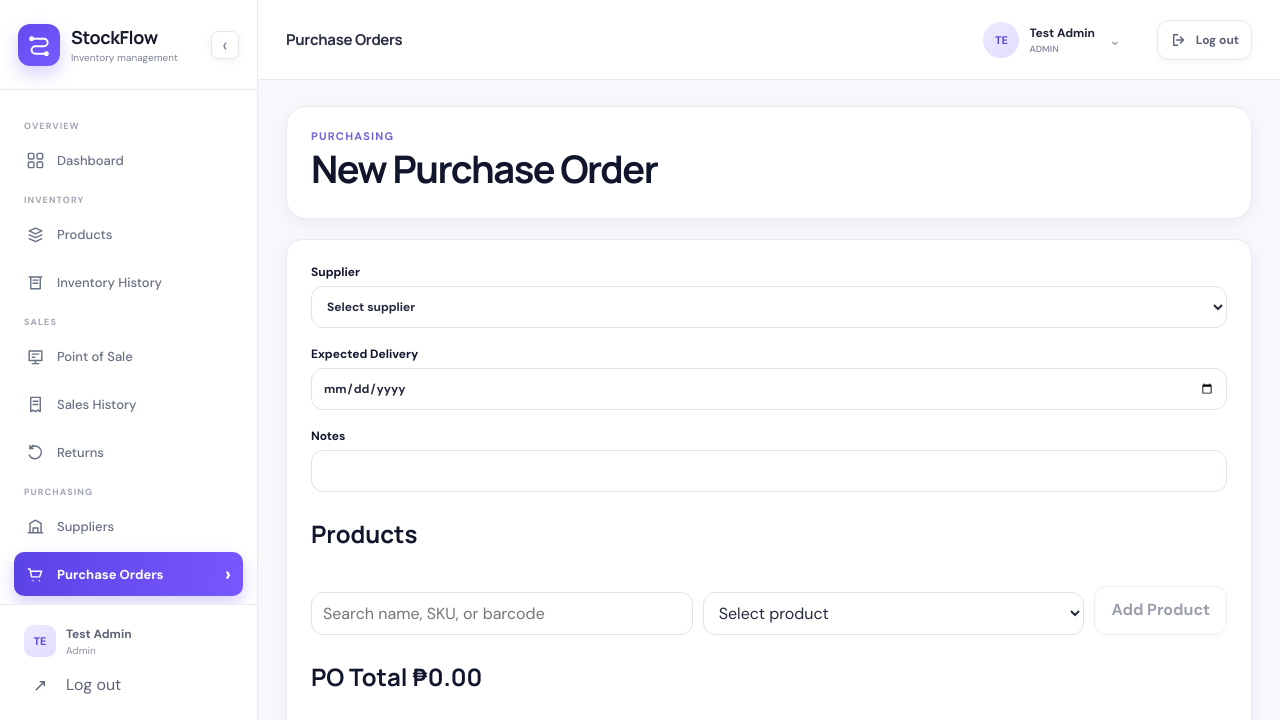
Phase 8 purchasing UI › searches products and creates a draft with preview total
The image size is (1280, 720).
Check: the heading "New Purchase Order" is shown, box left=311, top=149, right=657, bottom=189
Type "4801" into the field named "Search products" at (502, 613), box left=311, top=592, right=693, bottom=635
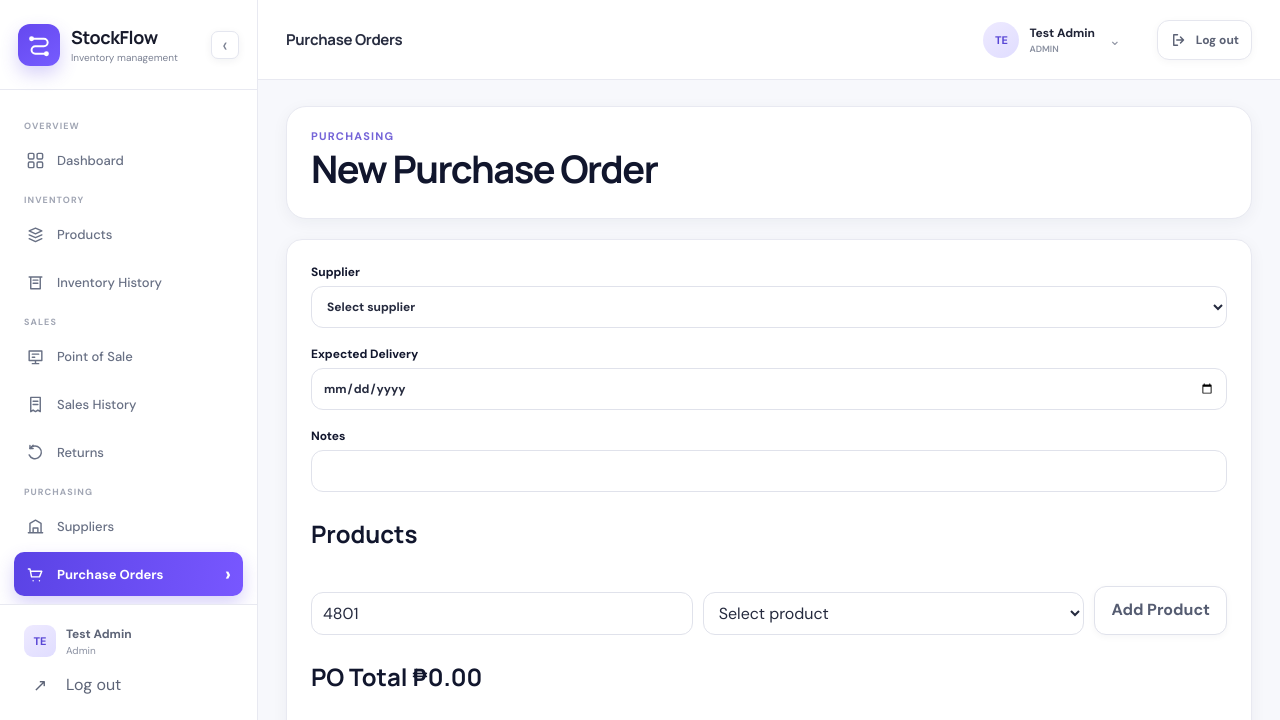
Select "Mineral Water · WATER · 4801" in the dropdown named "Product result" at (894, 613), box left=703, top=592, right=1084, bottom=635
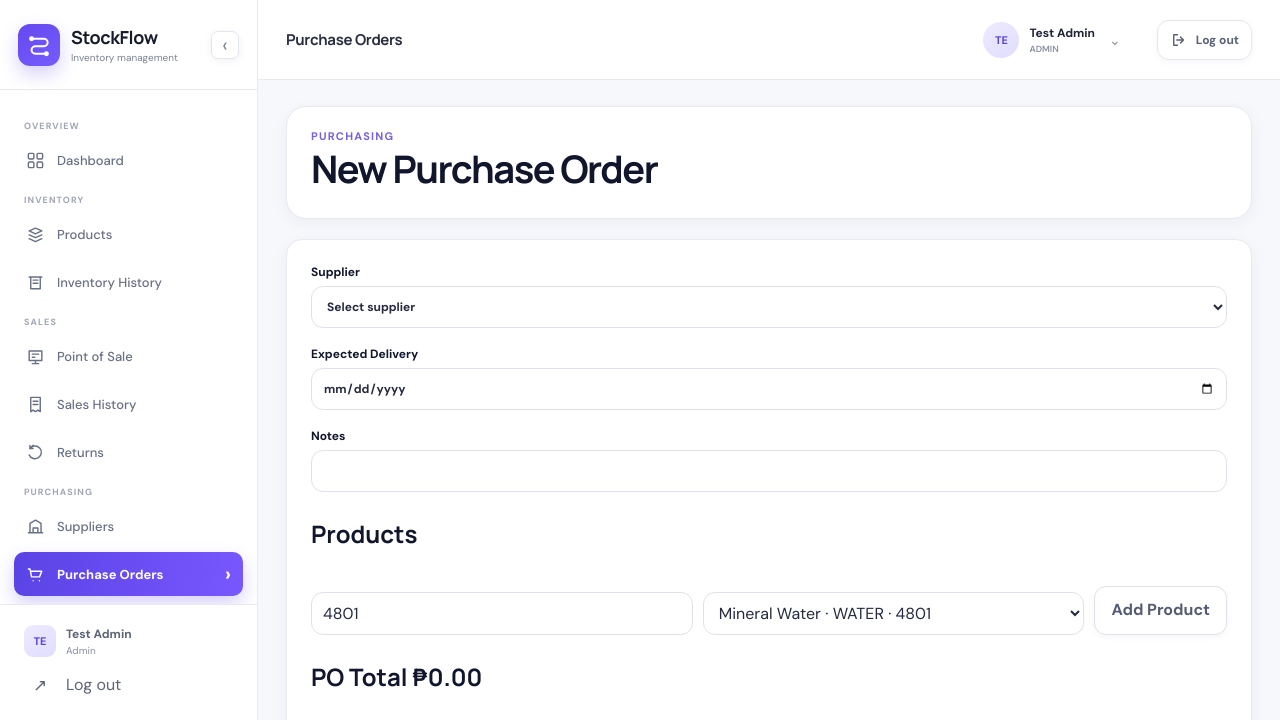
Click the button "Add Product" at (1161, 610), box left=1094, top=586, right=1227, bottom=635
(page scrolled)
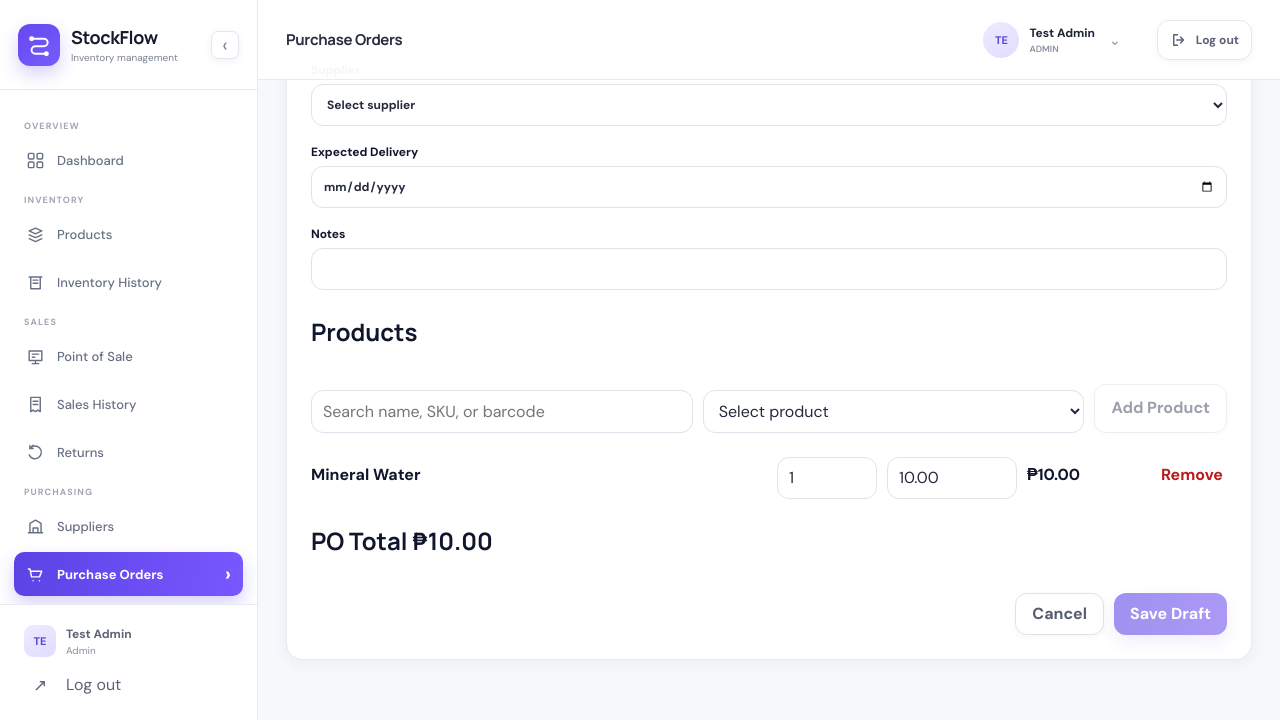
Check: the heading "PO Total ₱10.00" is shown, box left=311, top=524, right=493, bottom=557
